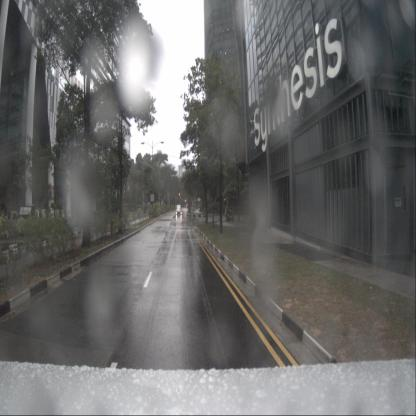vehicle-car: (176, 205, 182, 215)
vehicle-motorcycle: (225, 210, 235, 221)
